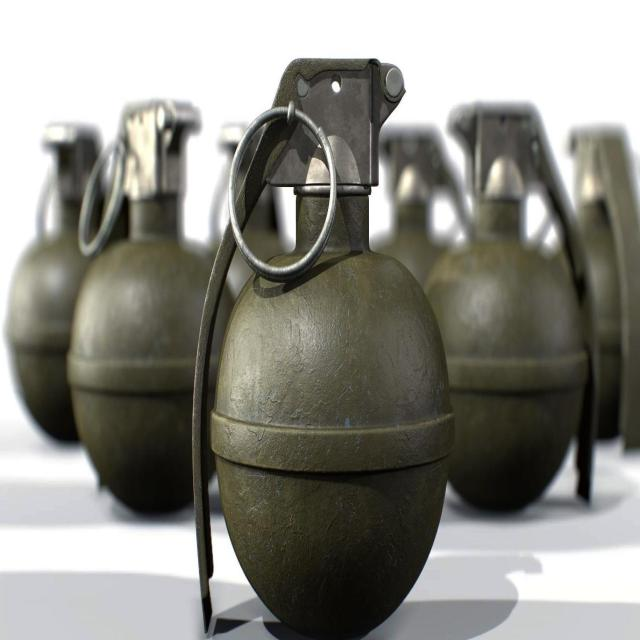grenade: (193, 60, 453, 640), (424, 104, 600, 508), (68, 98, 235, 519), (6, 121, 120, 444), (570, 124, 640, 457), (370, 126, 471, 293)
